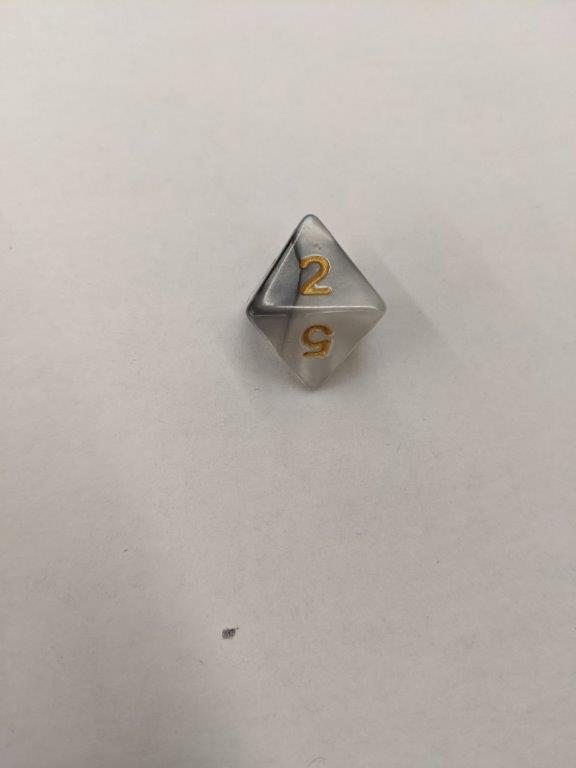d8-2: (245, 214, 388, 391)
